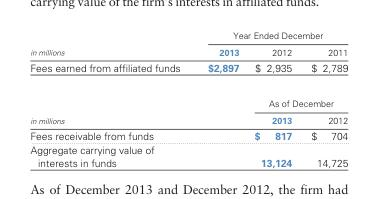table: (29, 29, 347, 168)
table column: (29, 29, 193, 168), (246, 29, 300, 168), (193, 29, 246, 168), (300, 29, 347, 168)
table column header: (29, 29, 347, 58)
table row: (29, 58, 347, 85), (29, 85, 347, 111), (29, 142, 347, 168), (29, 111, 347, 127), (29, 43, 347, 58), (29, 127, 347, 142), (29, 29, 347, 43)
table spanning cell: (29, 29, 193, 58), (246, 85, 347, 111), (193, 29, 347, 43)
